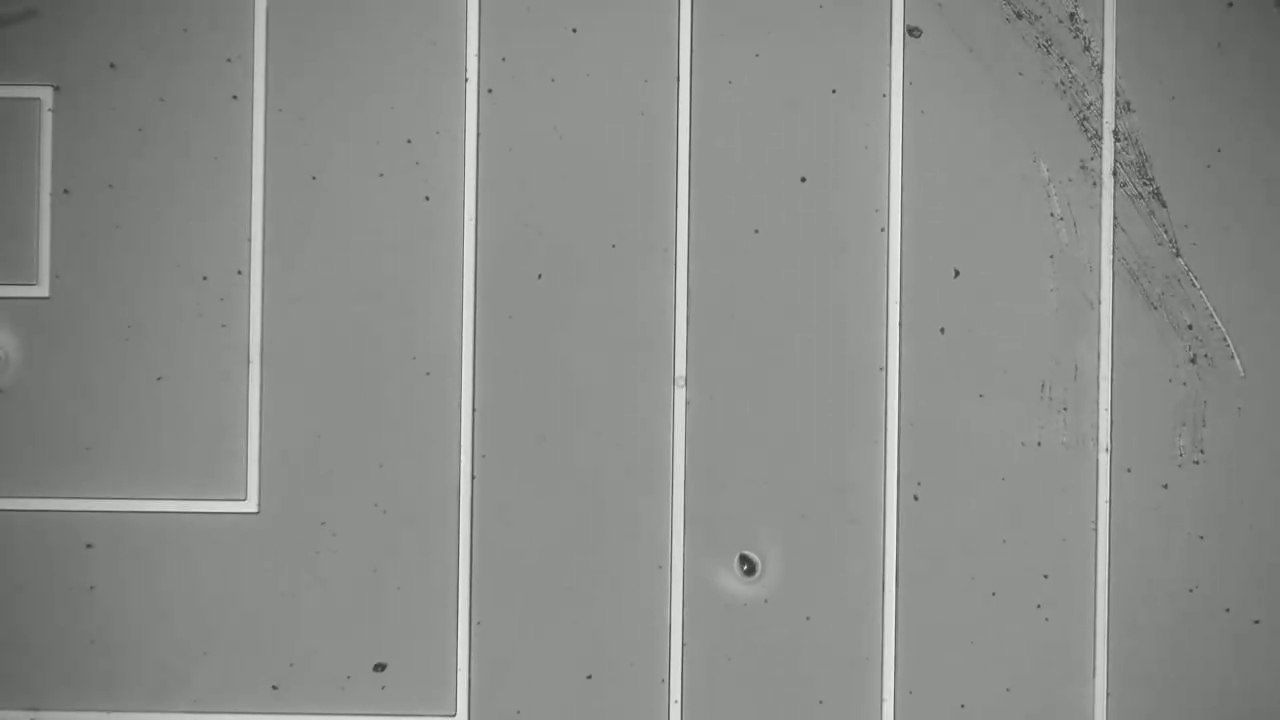scratch: (1007, 1, 1245, 374)
